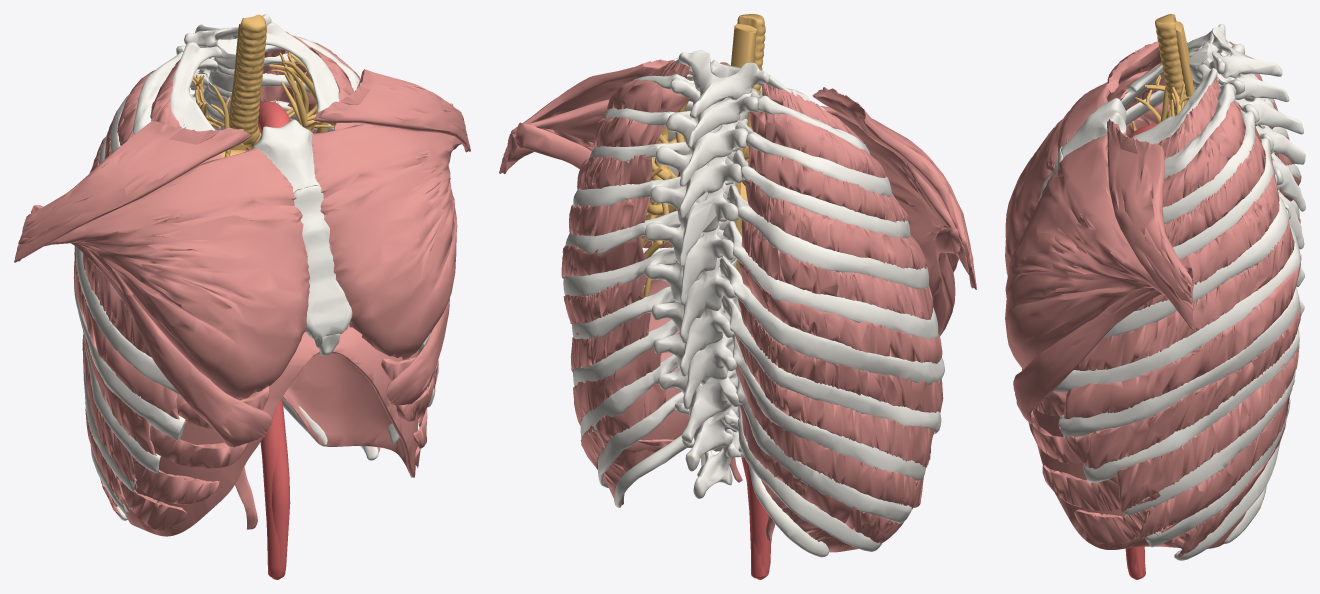
File: torax.glb
The picture shows the model from 3 angles, left to right: view 1: azimuth 30°, elevation 25°; view 2: azimuth 150°, elevation 25°; view 3: azimuth 270°, elevation 25°; orthographic projection. The views are drawn at different scales.
Visible parts, largest first — view 1: peitoral-maior, intercostais, costelas, diafragma, esterno, aorta, traqueia, coluna-toracica, pulmao-esquerdo, pulmao-direito; view 2: intercostais, costelas, coluna-toracica, peitoral-maior, diafragma, aorta, pulmao-esquerdo, esofago, traqueia; view 3: intercostais, peitoral-maior, costelas, coluna-toracica, diafragma, esterno, traqueia, aorta, esofago, pulmao-direito.
Boxes of the visible parts, x1=… form: peitoral-maior: x1=14, y1=69, x2=470, y2=447; intercostais: x1=73, y1=31, x2=438, y2=530; costelas: x1=74, y1=22, x2=438, y2=520; diafragma: x1=125, y1=324, x2=419, y2=536; esterno: x1=253, y1=119, x2=352, y2=355; aorta: x1=246, y1=101, x2=290, y2=579; traqueia: x1=229, y1=14, x2=266, y2=145; coluna-toracica: x1=176, y1=14, x2=271, y2=130; pulmao-esquerdo: x1=268, y1=52, x2=333, y2=132; pulmao-direito: x1=192, y1=74, x2=247, y2=157; intercostais: x1=561, y1=61, x2=943, y2=544; costelas: x1=563, y1=59, x2=944, y2=557; coluna-toracica: x1=644, y1=50, x2=769, y2=498; peitoral-maior: x1=499, y1=58, x2=976, y2=336; diafragma: x1=607, y1=279, x2=903, y2=552; aorta: x1=676, y1=135, x2=771, y2=579; pulmao-esquerdo: x1=641, y1=70, x2=692, y2=331; esofago: x1=731, y1=23, x2=756, y2=274; traqueia: x1=737, y1=14, x2=765, y2=160; intercostais: x1=1022, y1=40, x2=1301, y2=558; peitoral-maior: x1=1005, y1=41, x2=1194, y2=424; costelas: x1=1053, y1=30, x2=1300, y2=560; coluna-toracica: x1=1189, y1=24, x2=1305, y2=384; diafragma: x1=1032, y1=407, x2=1246, y2=549; esterno: x1=1035, y1=98, x2=1126, y2=208; traqueia: x1=1155, y1=14, x2=1187, y2=115; aorta: x1=1125, y1=123, x2=1158, y2=579; esofago: x1=1175, y1=21, x2=1194, y2=100; pulmao-direito: x1=1125, y1=75, x2=1171, y2=136.
Bounding box in the file's own units: 0.3885 × 0.4486 × 0.2194.
